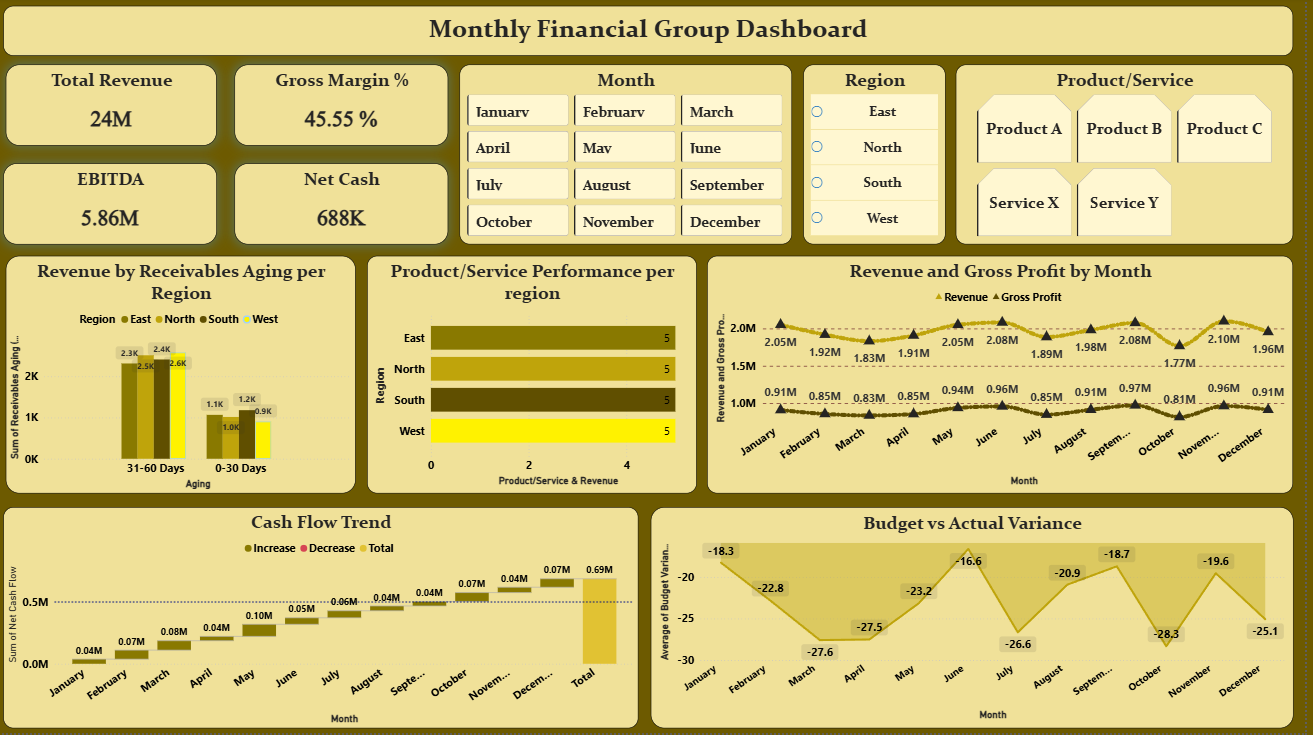

This screenshot's page, from the dashboard's own definition file:
{"tool":"powerbi","page":{"name":"Page 1","canvas":[1920,1080],"ordinal":0},"visuals":[{"type":"textbox","box":[9.2,12.8,1892.9,73.4],"z":0},{"type":"card","title":"Total Revenue","fields":{"Values":["Sum(Table1.Revenue)"]},"box":[12.8,99,310,119.2],"z":1000},{"type":"card","title":"Gross Margin %","fields":{"Values":["Table1.Gross Margin %"]},"box":[348.5,99,313.7,119.2],"z":2000},{"type":"card","title":"EBITDA","fields":{"Values":["Sum(Table1.EBITDA)"]},"box":[9.2,244,313.7,119.2],"z":3000},{"type":"card","title":"Net Cash","fields":{"Values":["Table1.Net Cash"]},"box":[348.5,244,313.7,119.2],"z":4000},{"type":"listSlicer","fields":{"Values":["Table.Region"]},"box":[1183.1,99,209.1,264.1],"z":5000},{"type":"advancedSlicerVisual","fields":{"Values":["Table1.Product/Service"]},"box":[1406.9,99,495.2,264.1],"z":6000},{"type":"advancedSlicerVisual","title":"Month","fields":{"Values":["Table1.Month.Variation.Date Hierarchy.Month"]},"box":[678.7,99,487.9,264.1],"z":7000},{"type":"lineChart","fields":{"Category":["Table1.Month.Variation.Date Hierarchy.Month"],"Y":["Sum(Table1.Revenue)","Sum(Table1.Gross Profit)"]},"box":[1041.9,379.7,860.3,348.5],"z":8000},{"type":"areaChart","title":"Budget vs Actual Variance","fields":{"Category":["Table1.Month.Variation.Date Hierarchy.Month"],"Y":["Avg(Table.Budget Variance %)"]},"box":[959.3,748.4,942.8,324.7],"z":9000},{"type":"clusteredColumnChart","title":"Revenue by Receivables Aging per Region","fields":{"Category":["Table1.Aging Bucket"],"Series":["Table.Region"],"Y":["Sum(Table.Receivables Aging (Days))"]},"box":[12.8,379.7,513.6,348.5],"z":10000},{"type":"waterfallChart","title":"Cash Flow Trend","fields":{"Y":["Sum(Table1.Net Cash Flow)"],"Category":["Table1.Month.Variation.Date Hierarchy.Month"]},"box":[9.2,748.4,931.8,324.7],"z":11000},{"type":"clusteredBarChart","title":"Product/Service Performance per region","fields":{"Category":["Table1.Region"],"Y":["Count(Table.Product/Service)"]},"box":[542.9,379.7,484.2,348.5],"z":12000}]}

Visuals, with their boxes in screenshot pixels (x1, y1, x2, y2), scaled from the page's 1920x1080 canvas onto the 1313x735 screenshot:
textbox: x1=6 y1=9 x2=1301 y2=59
"Total Revenue" card: x1=9 y1=67 x2=221 y2=148
"Gross Margin %" card: x1=238 y1=67 x2=453 y2=148
"EBITDA" card: x1=6 y1=166 x2=221 y2=247
"Net Cash" card: x1=238 y1=166 x2=453 y2=247
listSlicer - Table.Region: x1=809 y1=67 x2=952 y2=247
advancedSlicerVisual - Table1.Product/Service: x1=962 y1=67 x2=1301 y2=247
"Month" advancedSlicerVisual: x1=464 y1=67 x2=798 y2=247
lineChart - Table1.Month.Variation.Date Hierarchy.Month x Sum(Table1.Revenue): x1=713 y1=258 x2=1301 y2=496
"Budget vs Actual Variance" areaChart: x1=656 y1=509 x2=1301 y2=730
"Revenue by Receivables Aging per Region" clusteredColumnChart: x1=9 y1=258 x2=360 y2=496
"Cash Flow Trend" waterfallChart: x1=6 y1=509 x2=644 y2=730
"Product/Service Performance per region" clusteredBarChart: x1=371 y1=258 x2=702 y2=496
